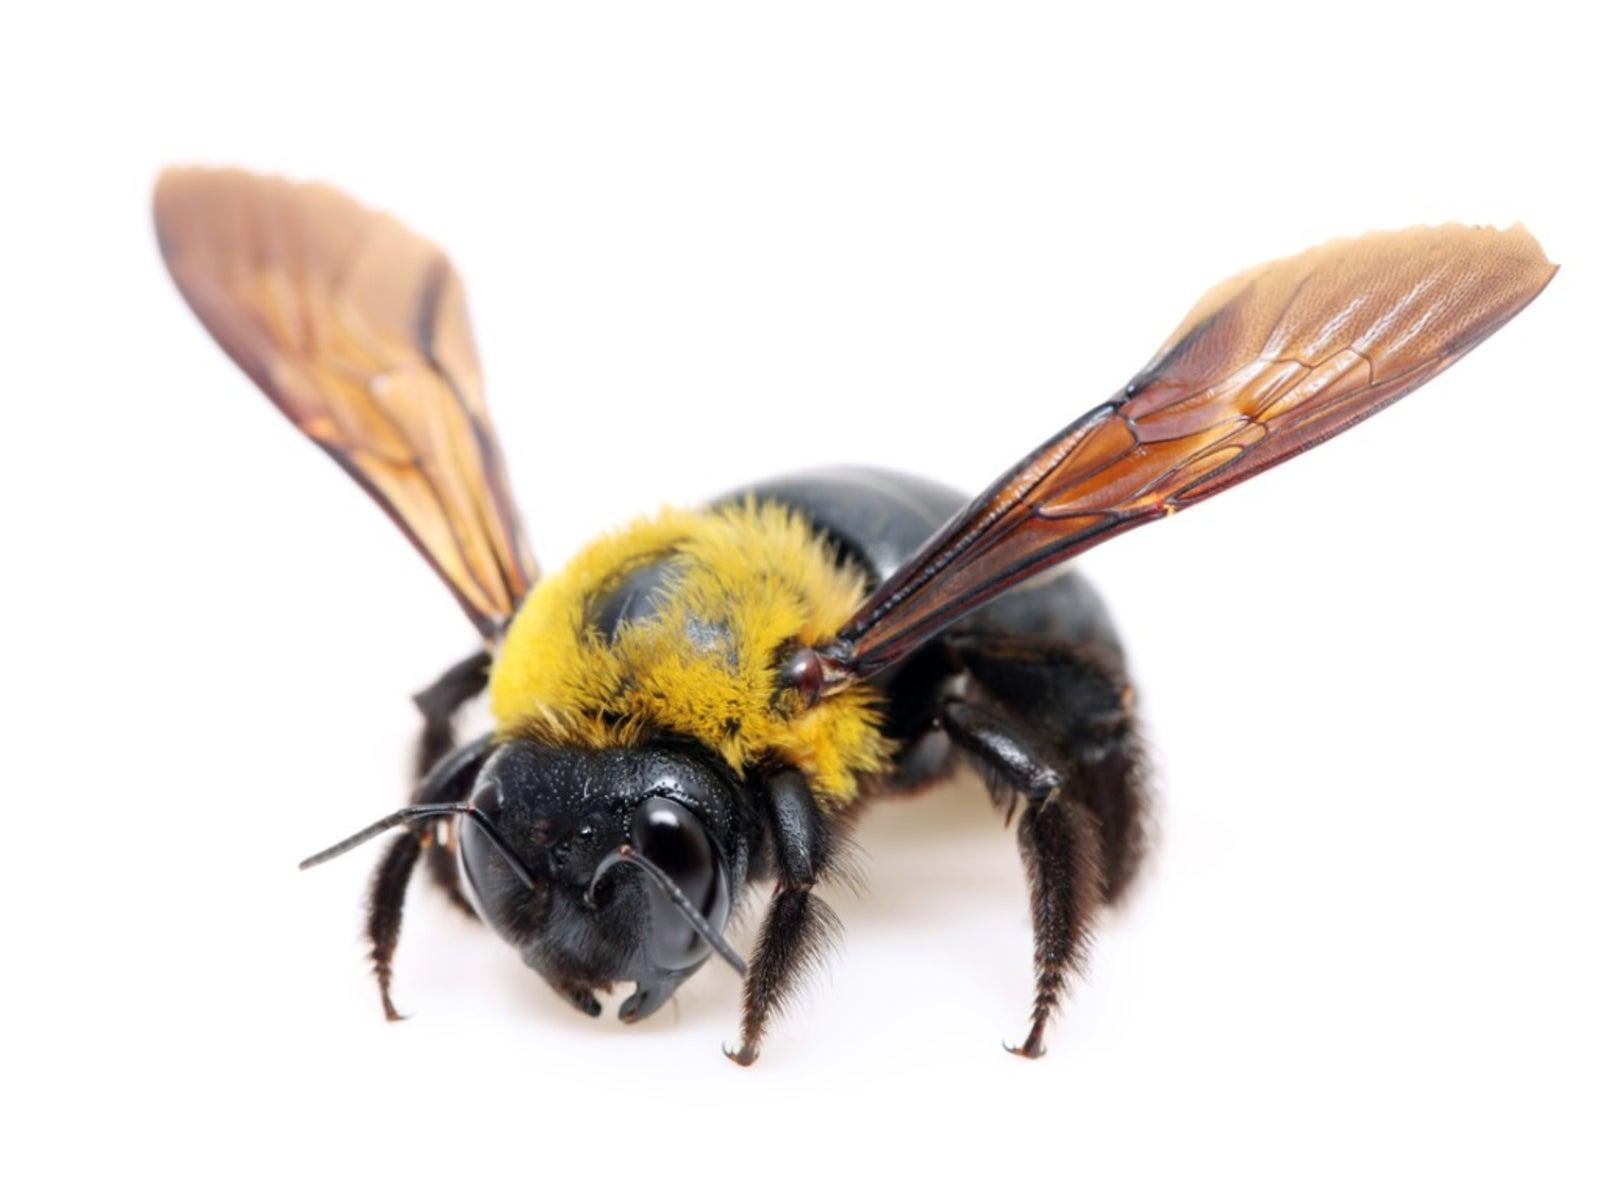Allodapula: (125, 122, 1574, 1076)
